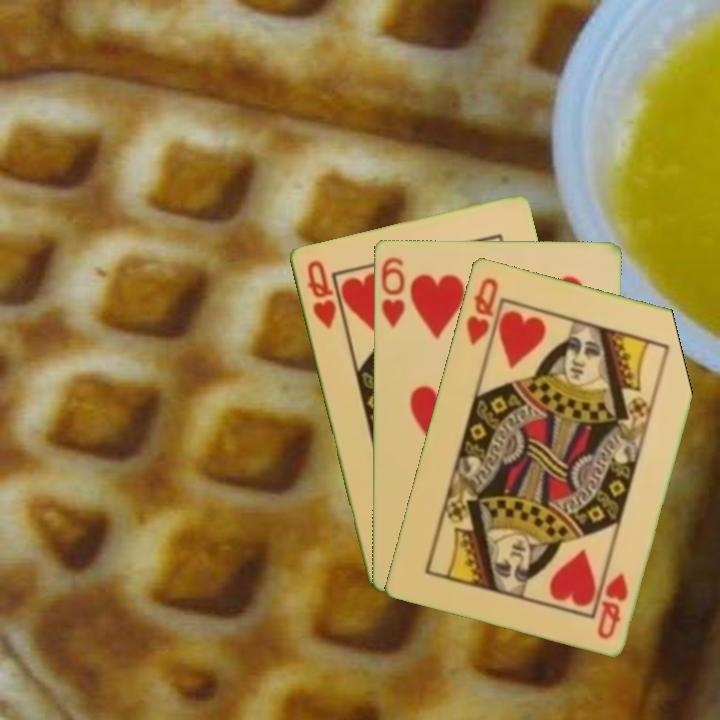6h: (377, 254, 407, 331)
Qh: (462, 273, 501, 348), (593, 568, 631, 642), (302, 256, 339, 331)
